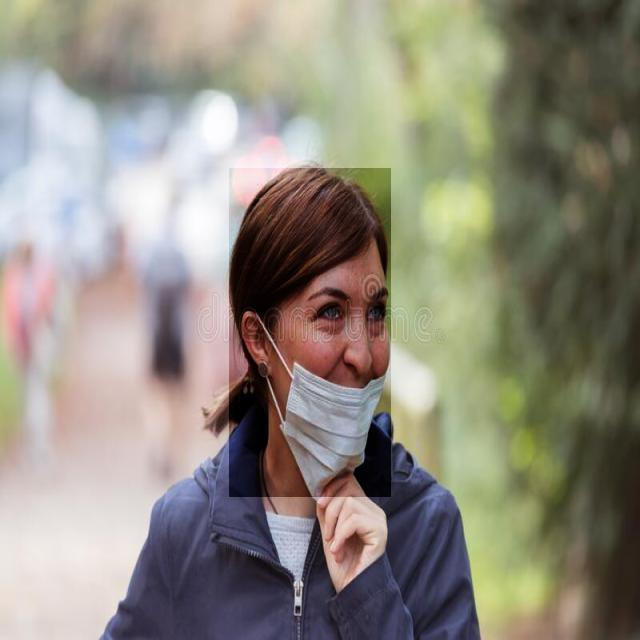hairnet: (229, 326, 387, 497)
